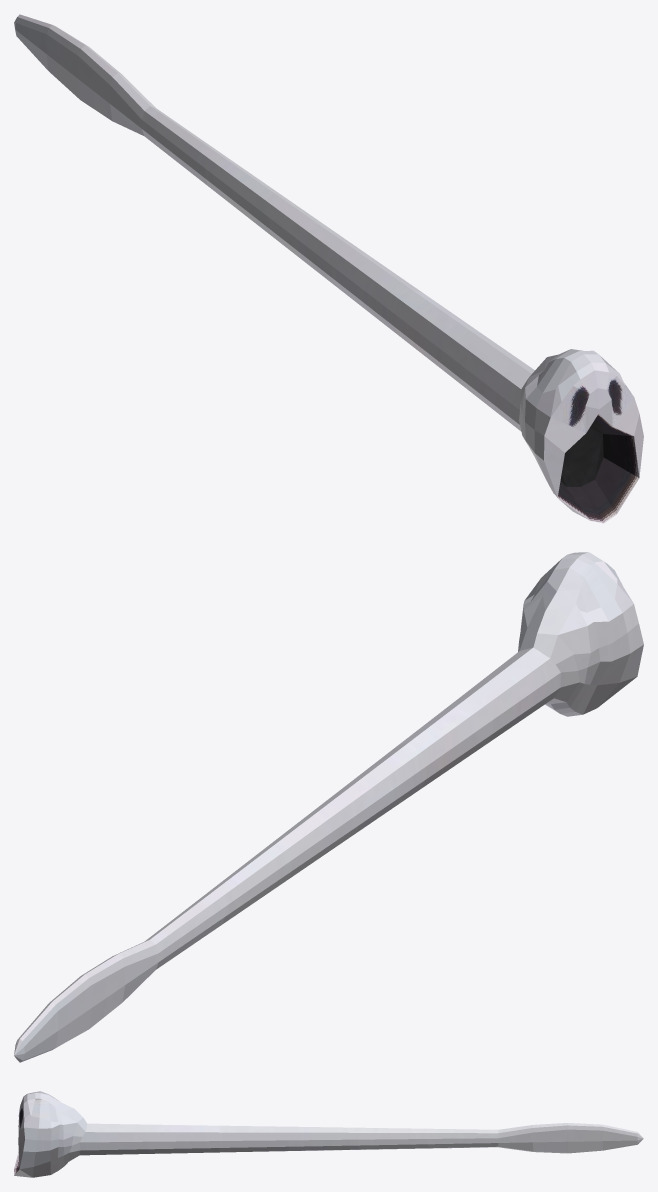
The model's file is monster.glb.
3 views of the same model, one above another, from view 1: azimuth 30°, elevation 25°; view 2: azimuth 150°, elevation 25°; view 3: azimuth 270°, elevation 25° (orthographic). The views are drawn at different scales.
Visible parts, largest first — view 1: Plane; view 2: Plane; view 3: Plane.
Part boxes in pixels (x1,y1,x2,y2): Plane: (14, 14, 643, 523); Plane: (14, 552, 643, 1062); Plane: (14, 1091, 643, 1177).
Bounding box in the file's own units: 1.65 × 2.49 × 16.83.
1 material, 1 textured.
